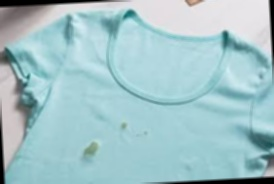mustard: (81, 141, 101, 162), (118, 116, 129, 130), (133, 130, 151, 137)
